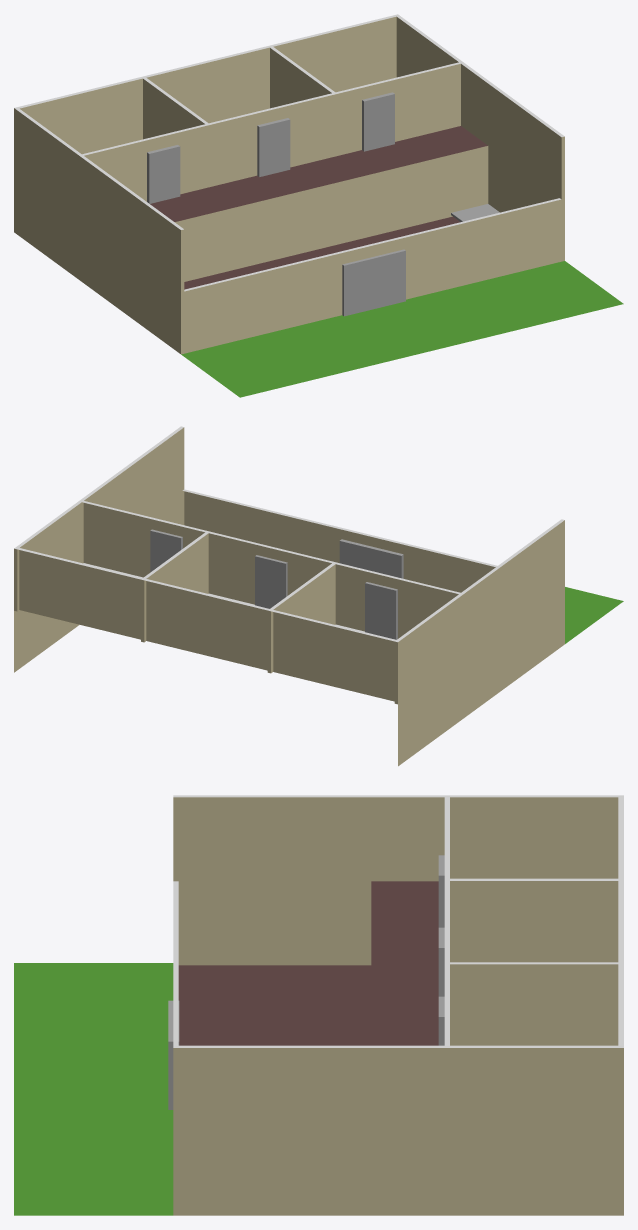
The model's file is TestBuilding_v1.fbx.
3 renders of one model, top to bottom at view 1: azimuth 30°, elevation 25°; view 2: azimuth 150°, elevation 25°; view 3: azimuth 270°, elevation 25°, orthographic. The views are drawn at different scales.
Parts seen in each view (by area): view 1: Outdoor_Floor, pCube99, pCube96, pCube120, pCube97, B3_Floor3, pCube114, pCube117, pCube110, pCube103, pCube122, pCube123 (+12 smaller); view 2: pCube120, pCube97, pCube99, pCube103, pCube110, pCube122, pCube114, pCube123, pCube117, pCube116, pCube111, pCube98 (+9 smaller); view 3: Outdoor_Floor, pCube116, pCube114, pCube117, pCube97, B3_Floor, pCube111, pCube123, pCube102, pCube98, B3_Floor3, pCube121 (+4 smaller).
Boxes of the visible parts, <box> form: Outdoor_Floor: <box>181,261,623,397</box>; pCube99: <box>184,199,561,353</box>; pCube96: <box>175,146,488,281</box>; pCube120: <box>84,64,460,201</box>; pCube97: <box>14,170,184,354</box>; B3_Floor3: <box>150,126,487,221</box>; pCube114: <box>80,157,184,292</box>; pCube117: <box>461,64,564,199</box>; pCube110: <box>273,16,396,92</box>; pCube103: <box>146,47,269,123</box>; pCube122: <box>20,78,142,154</box>; pCube123: <box>14,108,80,218</box>; pCube120: <box>83,503,458,638</box>; pCube97: <box>398,582,564,766</box>; pCube99: <box>184,491,495,592</box>; pCube103: <box>146,581,267,670</box>; pCube110: <box>19,550,140,639</box>; pCube122: <box>273,612,394,701</box>; pCube114: <box>464,520,564,655</box>; pCube123: <box>394,594,464,704</box>; pCube117: <box>84,427,184,516</box>; pCube116: <box>14,491,184,672</box>; pCube111: <box>14,502,83,611</box>; pCube98: <box>267,564,335,673</box>; Outdoor_Floor: <box>14,963,173,1215</box>; pCube116: <box>173,1132,623,1215</box>; pCube114: <box>173,797,444,881</box>; pCube117: <box>173,1048,444,1131</box>; pCube97: <box>178,881,371,965</box>; B3_Floor: <box>178,965,371,1045</box>; pCube111: <box>444,1048,623,1131</box>; pCube123: <box>450,797,618,878</box>; pCube102: <box>450,964,618,1045</box>; pCube98: <box>450,881,618,962</box>; B3_Floor3: <box>371,881,438,1045</box>; pCube121: <box>444,797,449,1045</box>.
Size of the model in its own units: 2487 by 772 by 2536.
